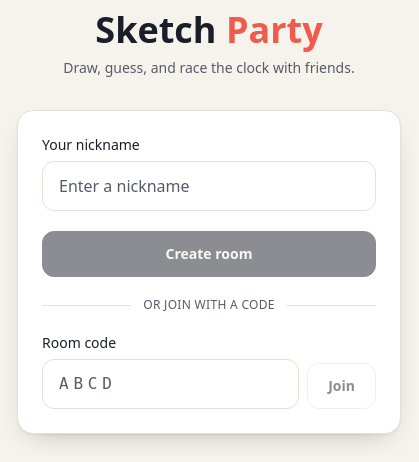
Scenario: Home › disables Create room until a nickname is entered
Expected: the button "Create room" is disabled, [42,231,376,277]
In the field labelled "Your nickname": [209, 186] box [42,161,376,211], type "Alex"
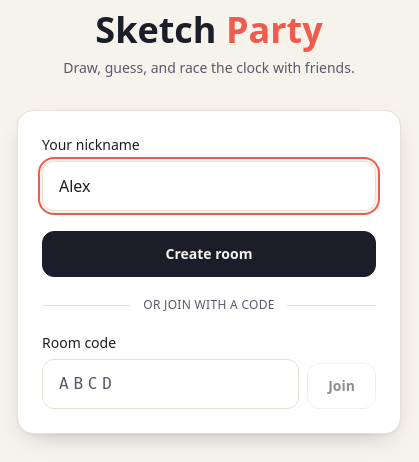
Expected: the button "Create room" is enabled, [42,231,376,277]
